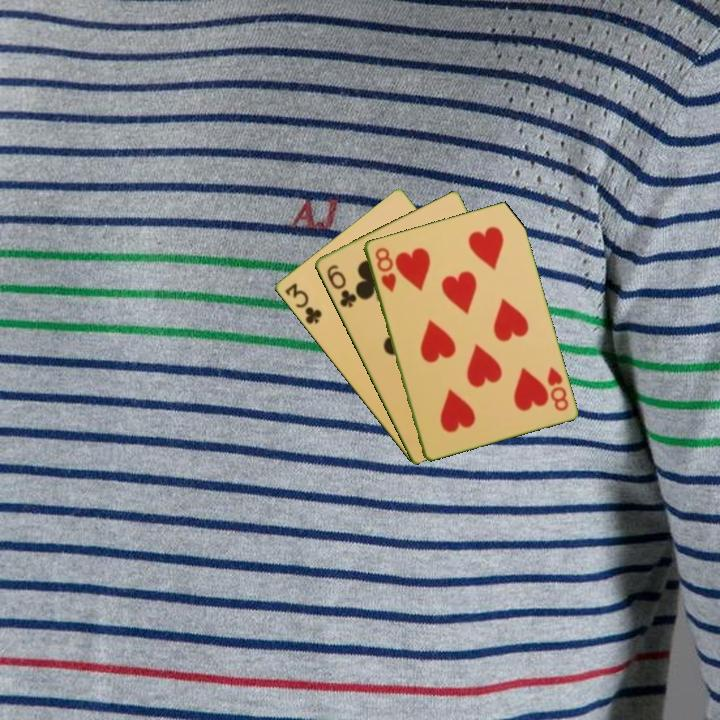3c: (281, 279, 325, 327)
6c: (323, 261, 359, 310)
8h: (371, 243, 399, 295), (543, 363, 571, 414)
